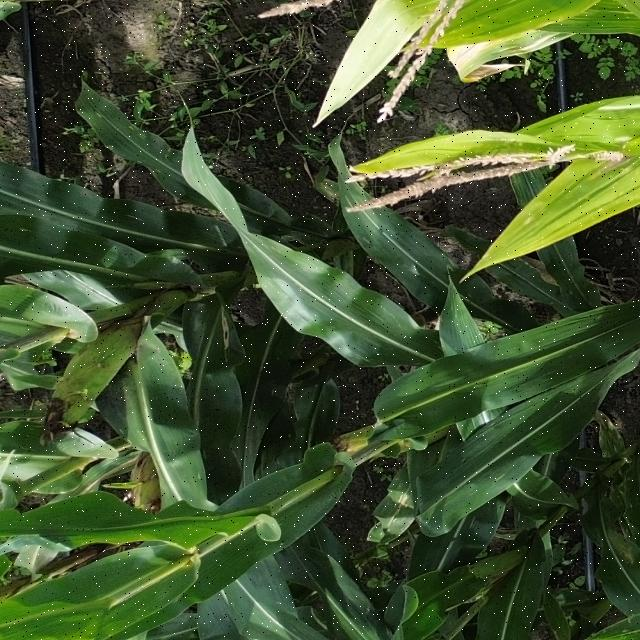gray-leaf-spot: (122, 400, 231, 501), (299, 283, 419, 371)
southern-leaf-blight: (557, 156, 640, 248), (112, 133, 182, 185)
